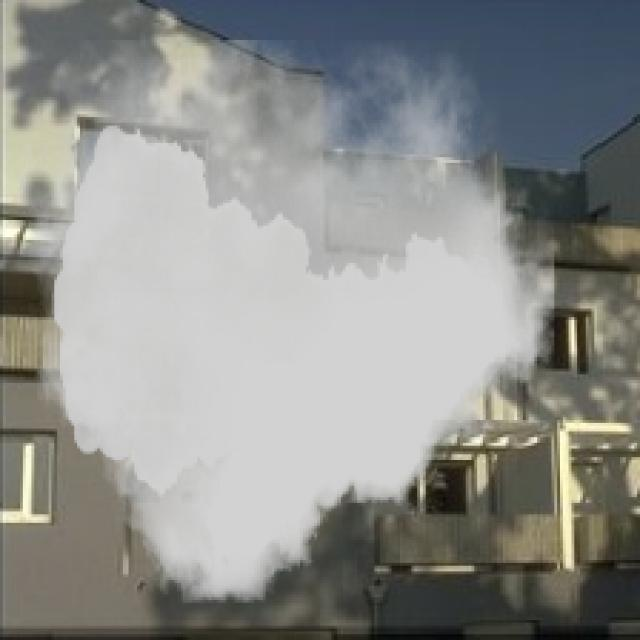smoke: (29, 40, 554, 603)
